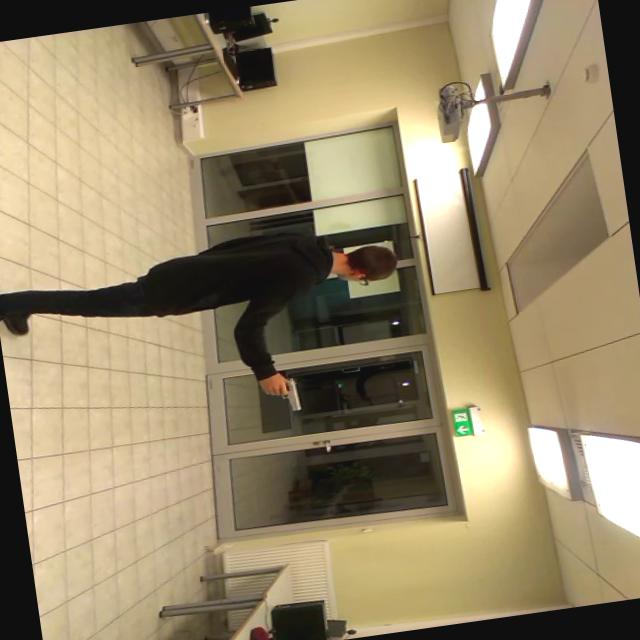handgun: (250, 370, 308, 420)
